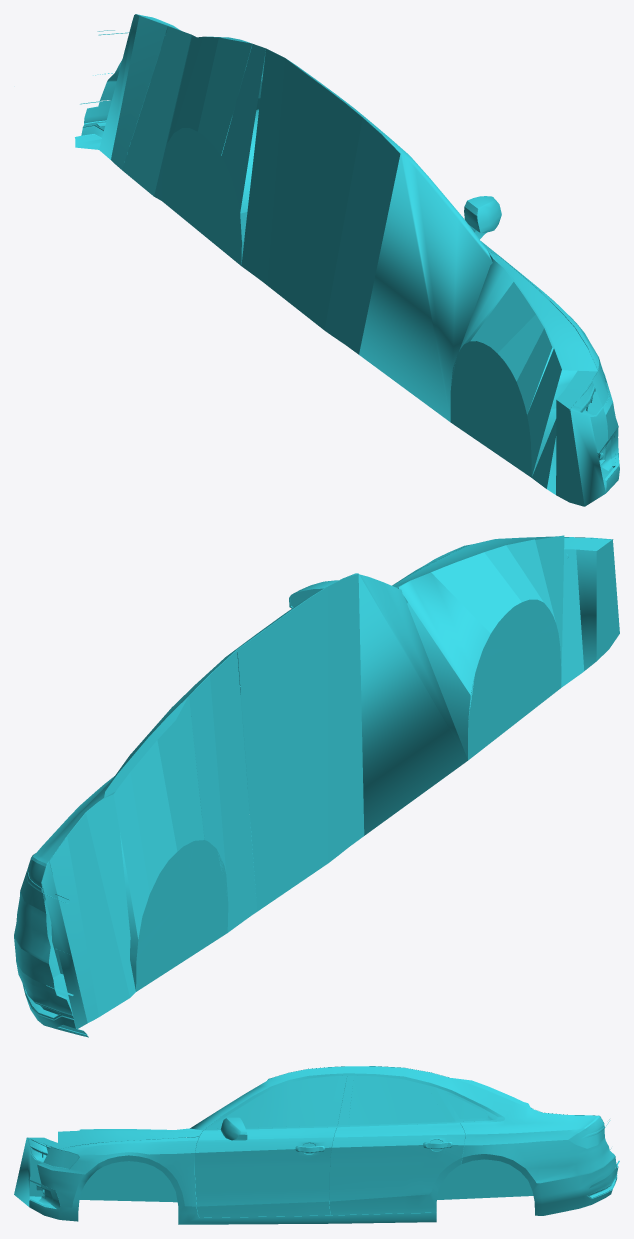
File: luxury-car-2-left.glb
3 views of the same model, one above another, from view 1: azimuth 30°, elevation 25°; view 2: azimuth 150°, elevation 25°; view 3: azimuth 270°, elevation 25° (orthographic). The views are drawn at different scales.
Parts seen in each view (by area): view 1: Left Side; view 2: Left Side; view 3: Left Side.
Boxes of the visible parts, x1=… form: Left Side: x1=75, y1=14, x2=619, y2=506; Left Side: x1=14, y1=535, x2=619, y2=1037; Left Side: x1=14, y1=1066, x2=619, y2=1224.
Bounding box in the file's own units: 1.1 × 1.31 × 5.1.
